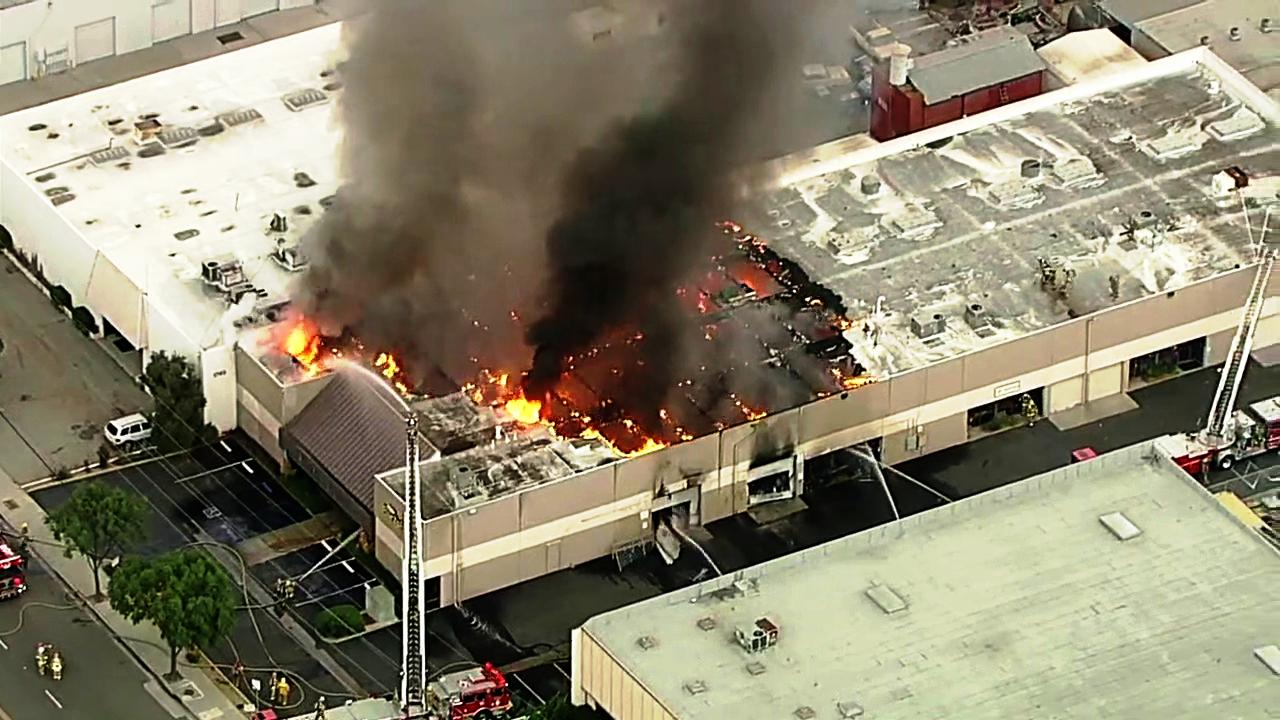fire: (507, 382, 550, 427)
smoke: (495, 49, 727, 344)
